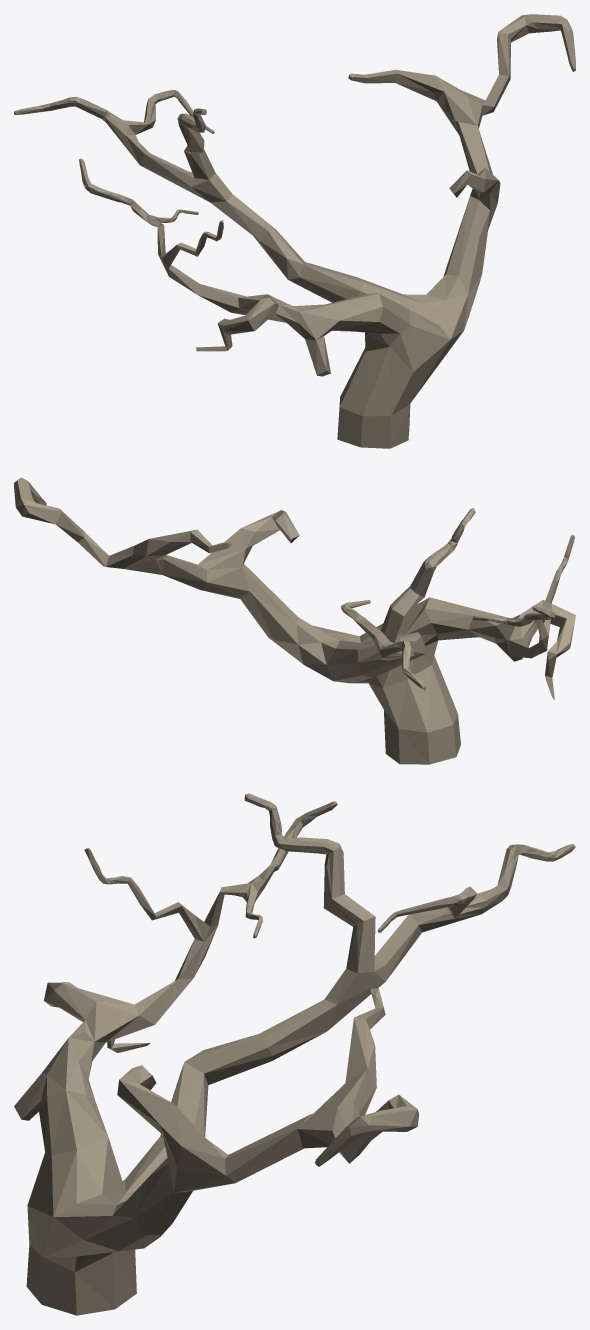
The model's file is bush_dried_02.glb.
3 views of the same model, one above another, from view 1: azimuth 30°, elevation 25°; view 2: azimuth 150°, elevation 25°; view 3: azimuth 270°, elevation 25° (orthographic). The views are drawn at different scales.
Visible parts, largest first — view 1: mapa.vegetacion.arbusto.env_bush_dried_02; view 2: mapa.vegetacion.arbusto.env_bush_dried_02; view 3: mapa.vegetacion.arbusto.env_bush_dried_02.
Part boxes in pixels (<box>): mapa.vegetacion.arbusto.env_bush_dried_02: <box>14,14,575,448</box>; mapa.vegetacion.arbusto.env_bush_dried_02: <box>14,477,575,764</box>; mapa.vegetacion.arbusto.env_bush_dried_02: <box>14,793,575,1315</box>.
Size of the model in its own units: 6.28 by 3.66 by 4.38.
